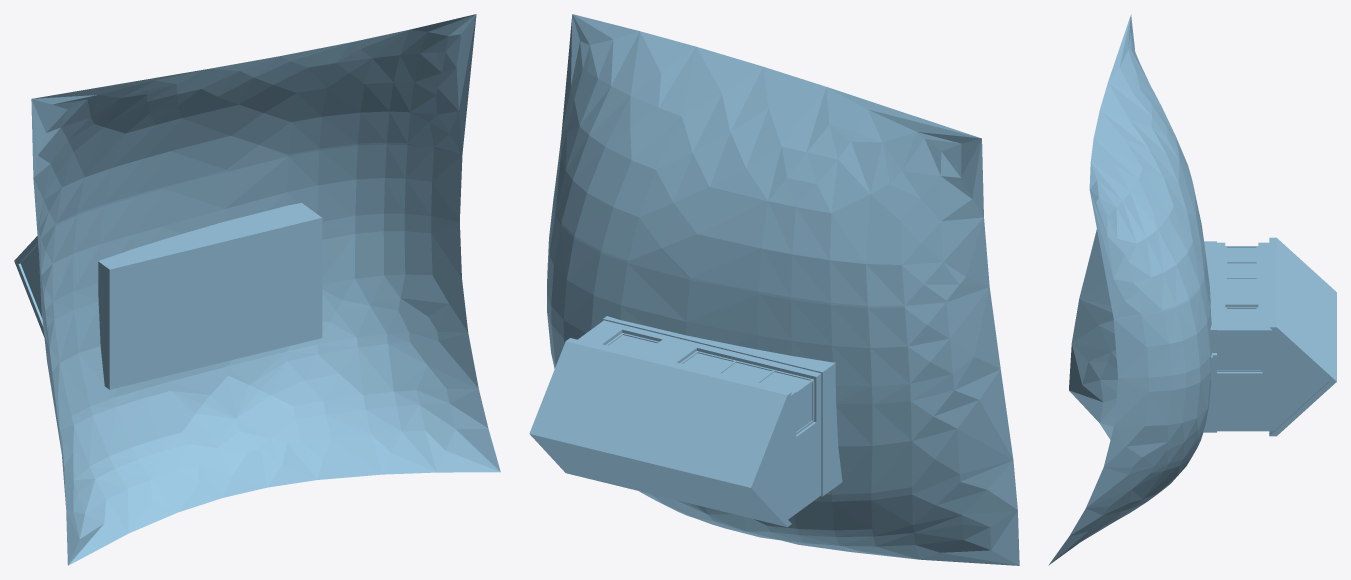
Rendered from IfcOpenHouse_IFC4.glb.
3 renders of one model, left to right at view 1: azimuth 30°, elevation 25°; view 2: azimuth 150°, elevation 25°; view 3: azimuth 270°, elevation 25°, orthographic. The views are drawn at different scales.
Bounding box in the file's own units: 20 × 20 × 13.91.
